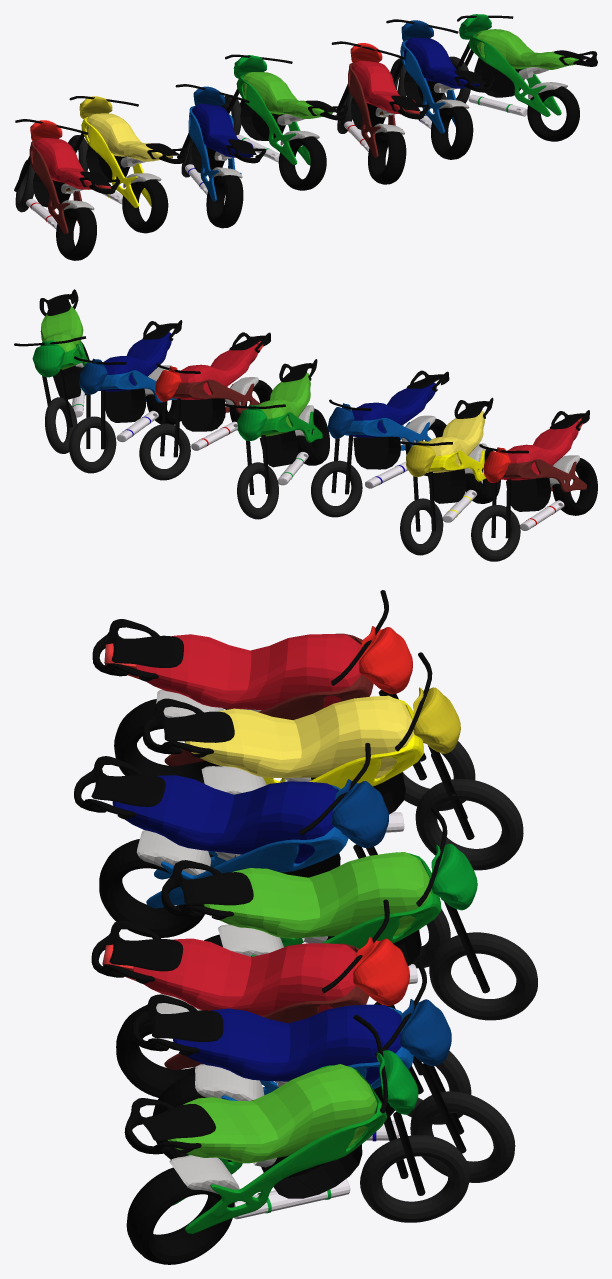
The model's file is Motos.fbx.
3 views of the same model, one above another, from view 1: azimuth 30°, elevation 25°; view 2: azimuth 150°, elevation 25°; view 3: azimuth 270°, elevation 25° (orthographic). The views are drawn at different scales.
Visible parts, largest first — view 1: polySurface540.006, polySurface540.003, polySurface540.001, polySurface562.007, polySurface540.005, Torus.009, polySurface540.004, Torus.011, Torus, polySurface540.002, polySurface540, Torus.005 (+31 smaller); view 2: polySurface540.002, polySurface540, polySurface540.004, polySurface540.005, polySurface540.003, Torus.002, Torus.006, polySurface540.001, Torus.010, Torus.012, Cube.007, Cube.005 (+34 smaller); view 3: polySurface540.001, polySurface540.004, polySurface540.003, polySurface540.002, polySurface540, polySurface540.006, polySurface540.005, Torus.013, Torus.014, Torus.004, polySurface562.007, Torus.008 (+41 smaller).
Boxes of the visible parts, x1=… form: polySurface540.006: x1=476, y1=29, x2=578, y2=69; polySurface540.003: x1=86, y1=113, x2=172, y2=161; polySurface540.001: x1=242, y1=72, x2=332, y2=118; polySurface562.007: x1=468, y1=34, x2=561, y2=116; polySurface540.005: x1=404, y1=37, x2=480, y2=88; Torus.009: x1=56, y1=207, x2=96, y2=260; polySurface540.004: x1=33, y1=137, x2=91, y2=189; Torus.011: x1=431, y1=106, x2=473, y2=159; Torus: x1=368, y1=131, x2=406, y2=184; polySurface540.002: x1=190, y1=104, x2=253, y2=157; polySurface540: x1=350, y1=60, x2=415, y2=114; Torus.005: x1=206, y1=175, x2=243, y2=228; polySurface540.002: x1=349, y1=382, x2=436, y2=437; polySurface540: x1=175, y1=344, x2=258, y2=399; polySurface540.004: x1=502, y1=422, x2=578, y2=480; polySurface540.005: x1=99, y1=332, x2=171, y2=391; polySurface540.003: x1=427, y1=411, x2=484, y2=472; Torus.002: x1=139, y1=423, x2=190, y2=480; Torus.006: x1=311, y1=460, x2=362, y2=517; polySurface540.001: x1=258, y1=372, x2=310, y2=437; Torus.010: x1=471, y1=505, x2=520, y2=561; Torus.012: x1=69, y1=416, x2=116, y2=473; Cube.007: x1=353, y1=436, x2=400, y2=469; Cube.005: x1=180, y1=398, x2=225, y2=431; polySurface540.001: x1=203, y1=852, x2=430, y2=938; polySurface540.004: x1=136, y1=634, x2=361, y2=710; polySurface540.003: x1=184, y1=695, x2=413, y2=778; polySurface540.002: x1=112, y1=775, x2=337, y2=863; polySurface540: x1=133, y1=938, x2=356, y2=1016; polySurface540.006: x1=168, y1=1064, x2=377, y2=1163; polySurface540.005: x1=173, y1=1004, x2=401, y2=1084; Torus.013: x1=126, y1=1167, x2=234, y2=1264; Torus.014: x1=360, y1=1135, x2=470, y2=1222; Torus.004: x1=429, y1=932, x2=537, y2=1020; polySurface562.007: x1=173, y1=1065, x2=386, y2=1233; Torus.008: x1=415, y1=779, x2=523, y2=870.
Bounding box in the file's own units: 330 × 60.39 × 125.
